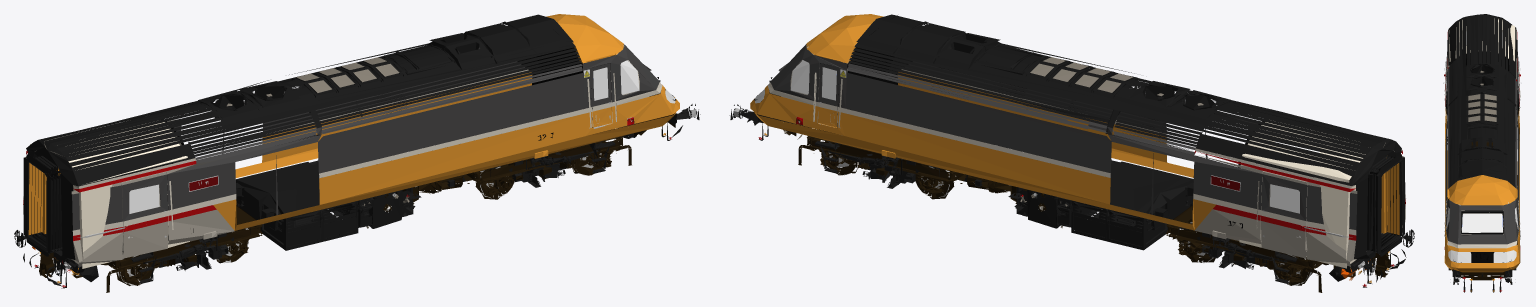
File: hst_power.glb
3 views of the same model, side by side, from view 1: azimuth 30°, elevation 25°; view 2: azimuth 150°, elevation 25°; view 3: azimuth 270°, elevation 25° (orthographic). The views are drawn at different scales.
Parts seen in each view (by area): view 1: hst_power; view 2: hst_power; view 3: hst_power.
Boxes of the visible parts, x1,y1,x2,y2 form: hst_power: (14, 14, 700, 292); hst_power: (729, 14, 1414, 292); hst_power: (1443, 14, 1521, 292).
Size of the model in its own units: 16.78 by 3.84 by 2.71.
Materials: 25 (1 with a texture image).
